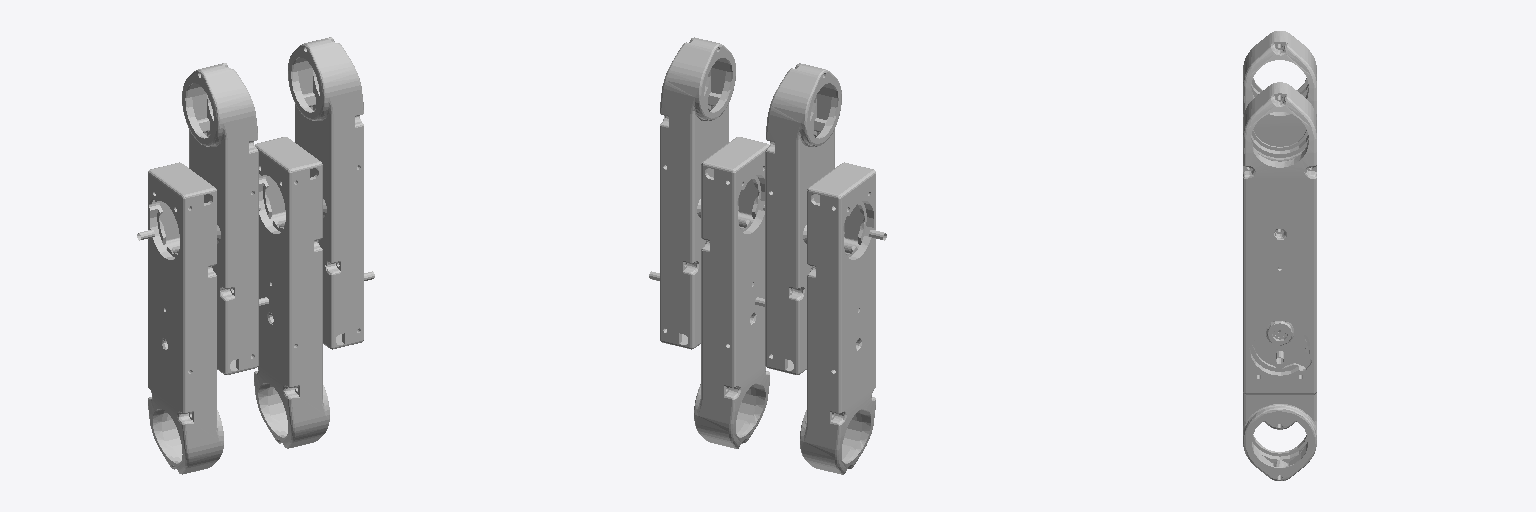
The model's file is solo_12_base_13.obj.
3 views of the same model, side by side, from view 1: azimuth 30°, elevation 25°; view 2: azimuth 150°, elevation 25°; view 3: azimuth 270°, elevation 25° (orthographic).
Bounding box in the file's own units: 0.1348 × 0.219 × 0.037.